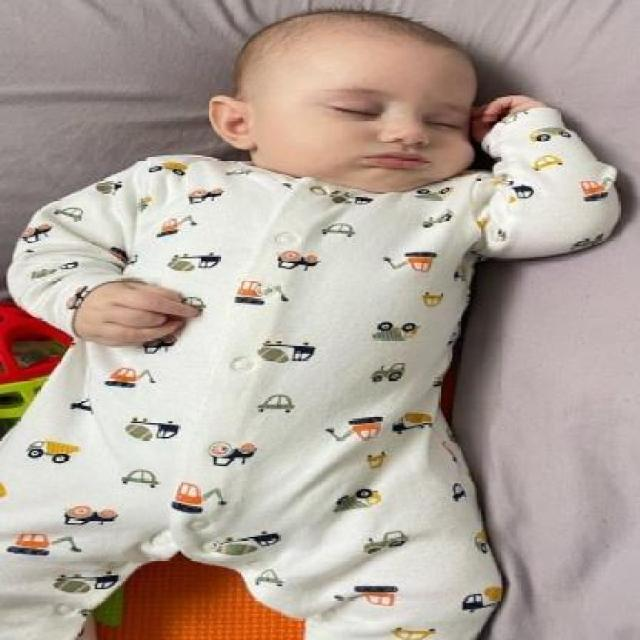baby: (0, 9, 622, 638)
